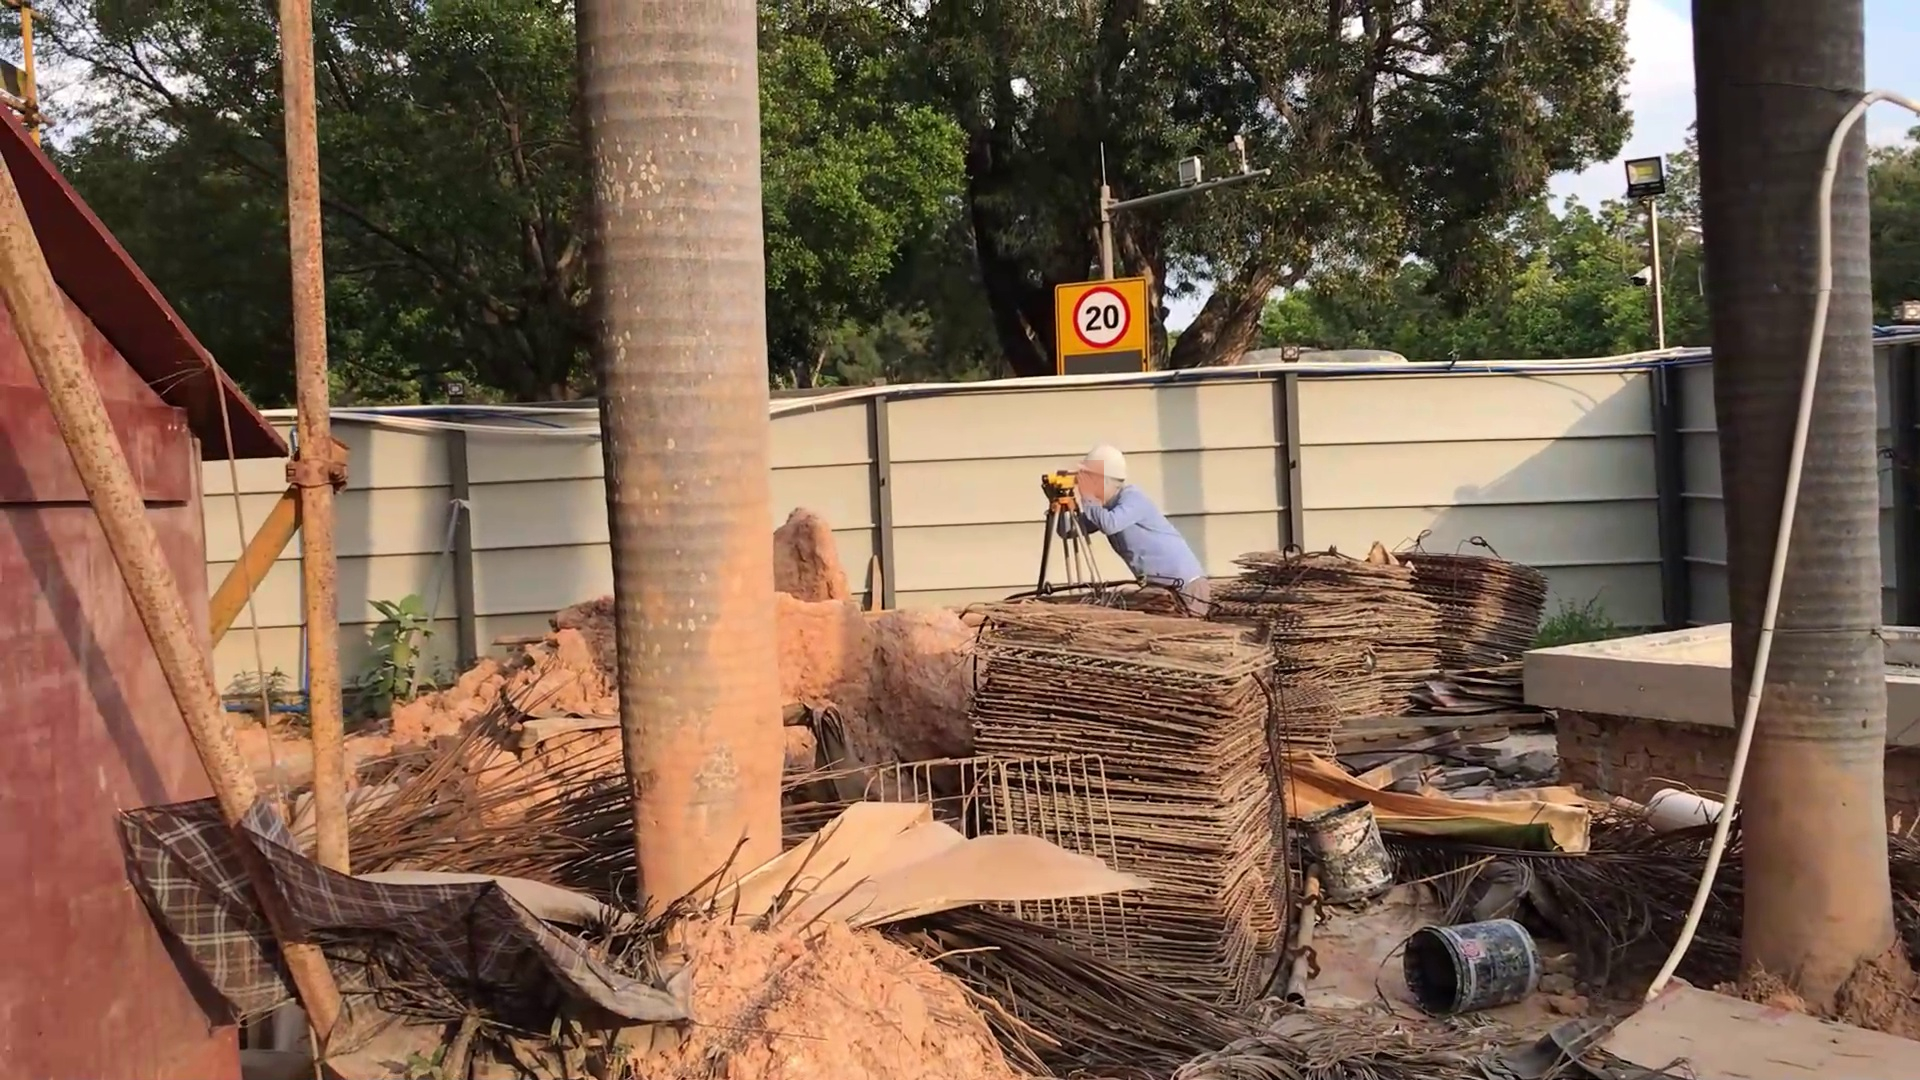helmet: (1076, 441, 1132, 490)
person: (1043, 441, 1214, 619)
slogan: (1055, 279, 1153, 349)
